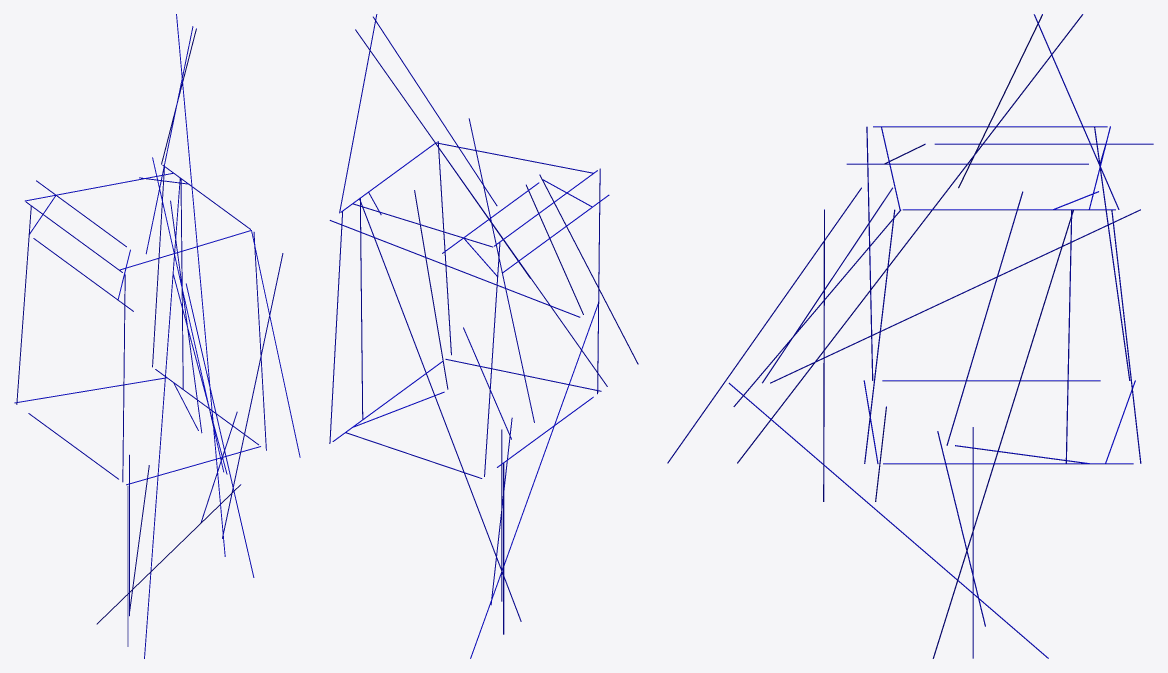
File: corrected_3d_strokes.glb
3 views of the same model, side by side, from view 1: azimuth 30°, elevation 25°; view 2: azimuth 150°, elevation 25°; view 3: azimuth 270°, elevation 25° (orthographic). The views are drawn at different scales.
Parts seen in each view (by area): view 1: world; view 2: world; view 3: world.
Part boxes in pixels (x1,y1,x2,y2): world: (14, 14, 300, 658); world: (329, 14, 638, 658); world: (667, 14, 1153, 658).
Bounding box in the file's own units: 6.54 × 25.57 × 16.11.
